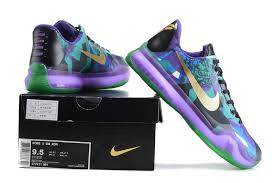nike: (174, 50, 221, 113), (79, 46, 108, 66)
